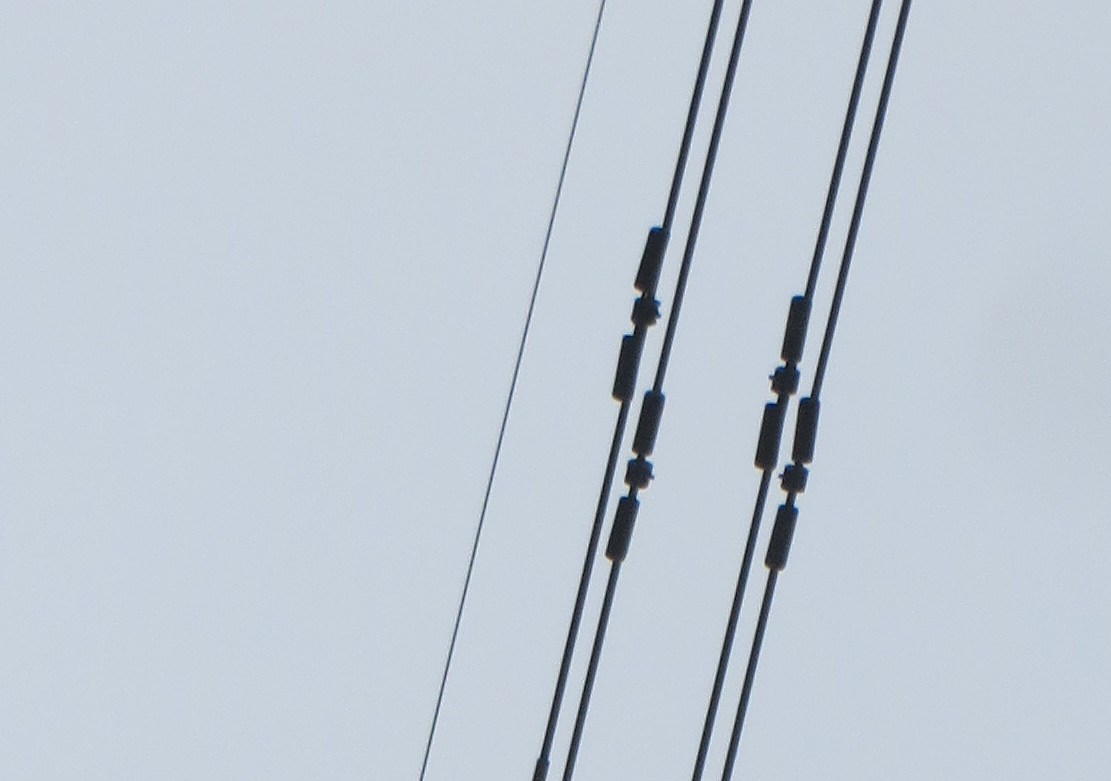damper: (751, 294, 816, 471), (602, 389, 668, 563), (607, 223, 668, 403), (763, 395, 823, 574)
